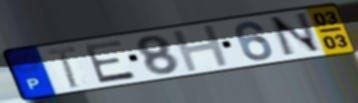6: (233, 20, 275, 62)
8: (135, 33, 184, 77)
E: (81, 38, 139, 85)
H: (170, 23, 234, 74)
N: (266, 11, 325, 59)
T: (44, 44, 80, 90)
